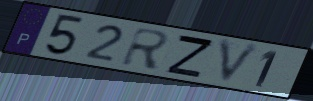1: (254, 50, 278, 89)
2: (83, 24, 127, 64)
5: (41, 12, 89, 58)
R: (118, 26, 174, 72)
V: (216, 37, 264, 87)
Z: (164, 33, 216, 80)
